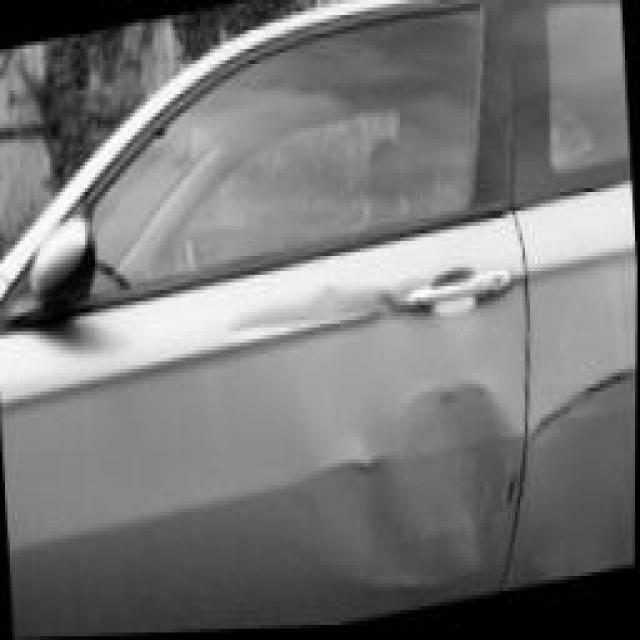Door: (0, 188, 638, 640)
